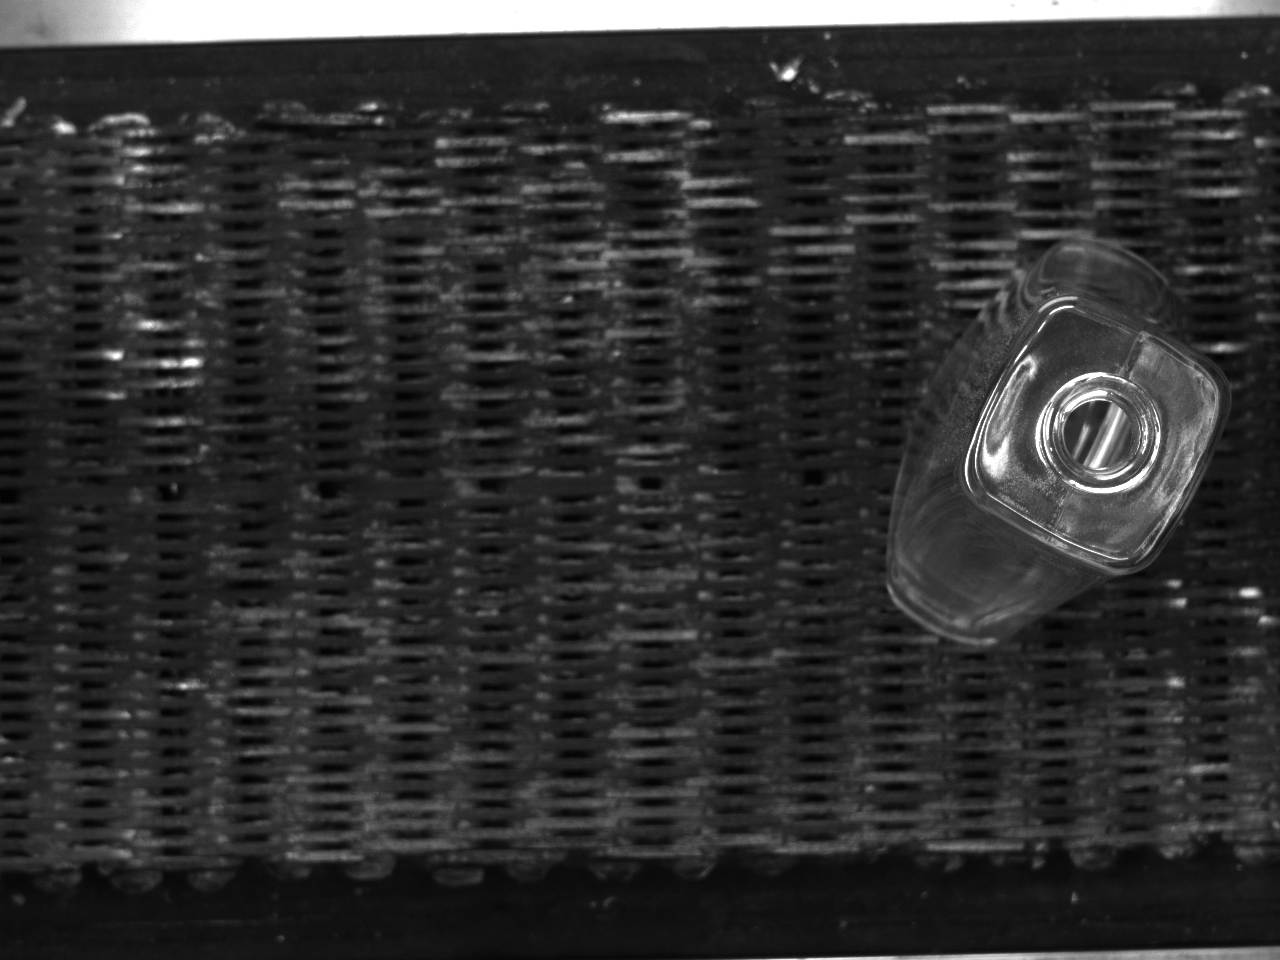bottleneck: (1040, 372, 1162, 494)
